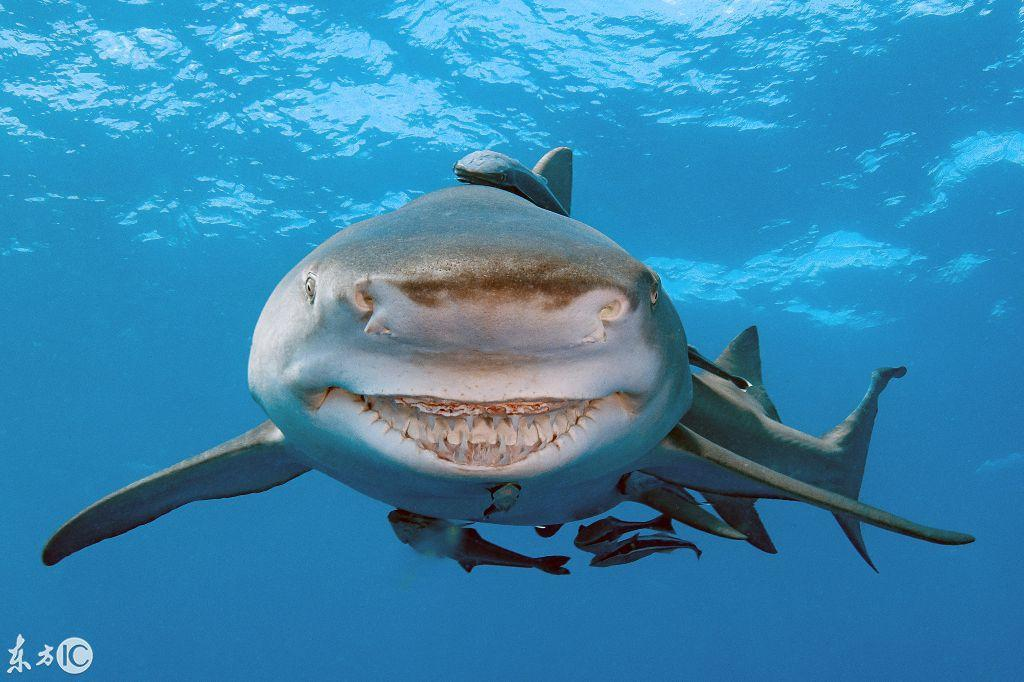fish: (25, 147, 974, 580)
